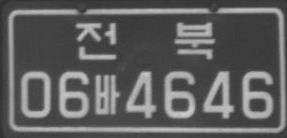0: (19, 70, 52, 118)
4: (125, 70, 157, 119), (202, 70, 233, 118)
6: (163, 70, 196, 119), (241, 69, 273, 119), (58, 70, 90, 118)
바: (94, 74, 120, 114)
전북_D: (75, 20, 215, 61)
